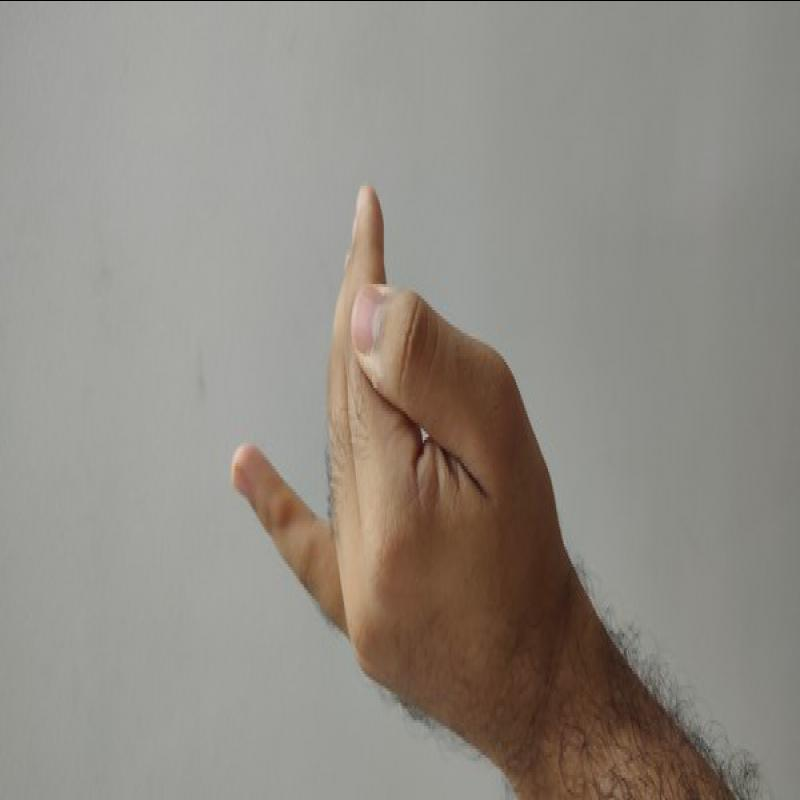Kartharee Mukham: (202, 155, 585, 741)
